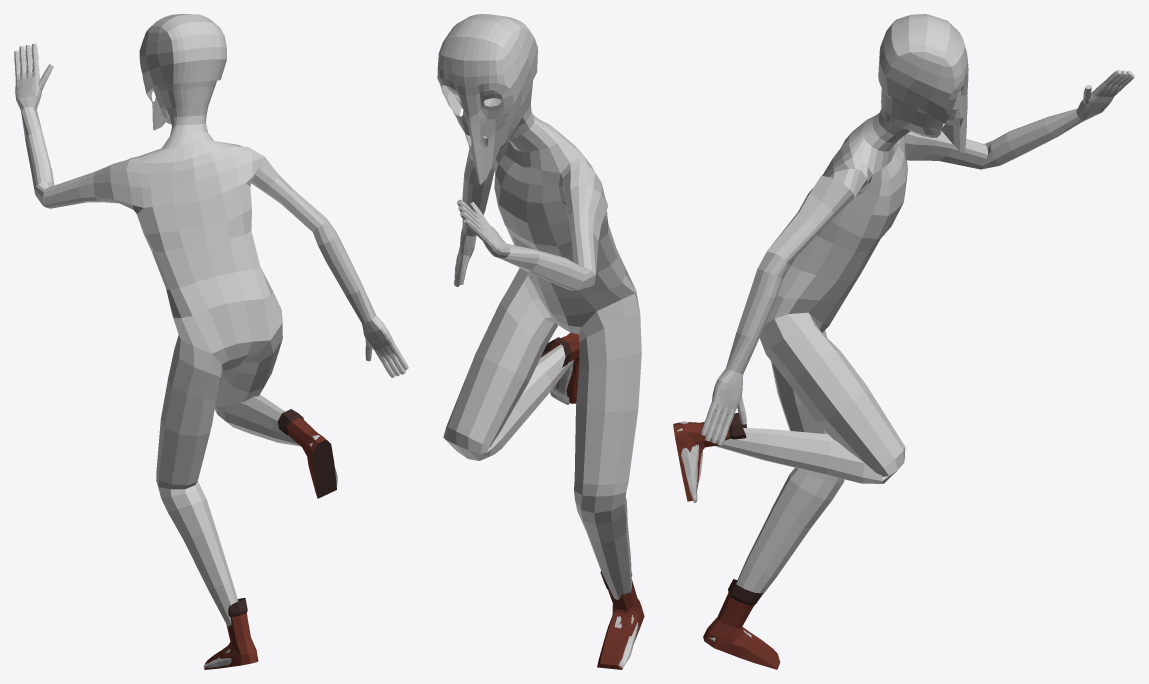
File: saltoadelante_000101.obj
3 renders of one model, left to right at view 1: azimuth 30°, elevation 25°; view 2: azimuth 150°, elevation 25°; view 3: azimuth 270°, elevation 25°, orthographic. The views are drawn at different scales.
Visible parts, largest first — view 1: Plane.002_Plane.001, Plane.003, Plane.004; view 2: Plane.002_Plane.001, Plane.004, Plane.003; view 3: Plane.002_Plane.001, Plane.004, Plane.003.
Boxes of the visible parts, box(x1,y1,x2,y2) form: Plane.002_Plane.001: box(14, 14, 408, 667); Plane.003: box(277, 409, 336, 498); Plane.004: box(204, 598, 258, 669); Plane.002_Plane.001: box(437, 14, 641, 667); Plane.004: box(597, 571, 644, 669); Plane.003: box(541, 332, 579, 403); Plane.002_Plane.001: box(677, 14, 1134, 641); Plane.004: box(703, 579, 780, 669); Plane.003: box(673, 412, 746, 501).
Size of the model in its own units: 2.9 by 6.79 by 4.27.
